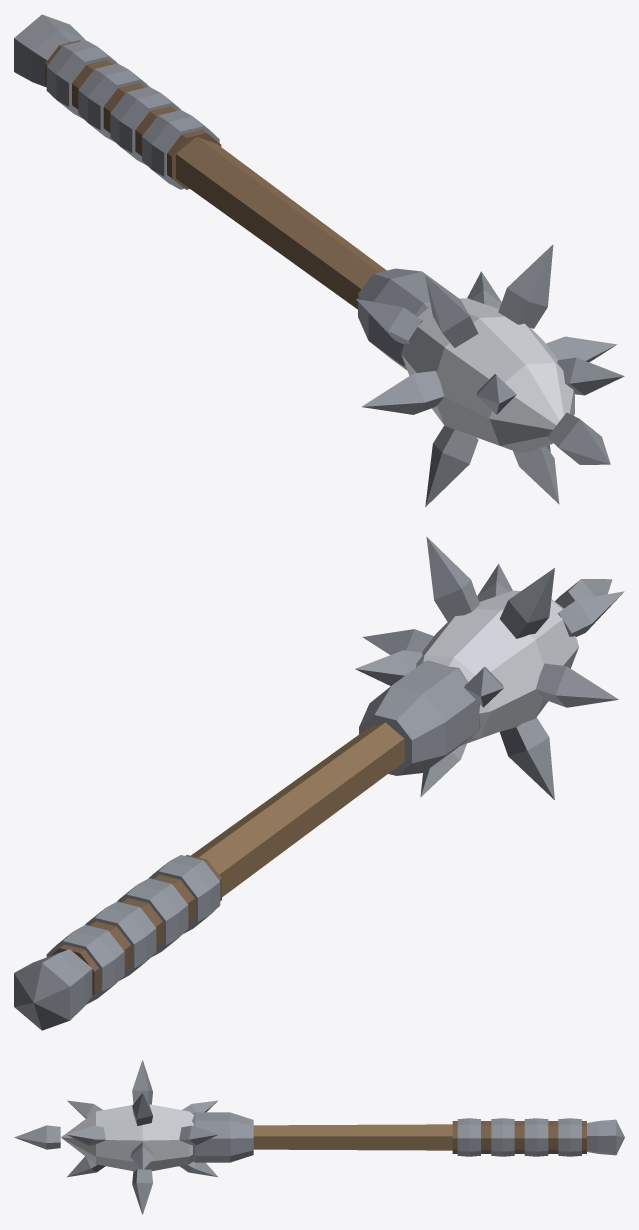
Rendered from morningstar.glb.
3 views of the same model, one above another, from view 1: azimuth 30°, elevation 25°; view 2: azimuth 150°, elevation 25°; view 3: azimuth 270°, elevation 25° (orthographic). The views are drawn at different scales.
Visible parts, largest first — view 1: morningstar; view 2: morningstar; view 3: morningstar.
Boxes of the visible parts, x1=… form: morningstar: x1=14, y1=14, x2=624, y2=506; morningstar: x1=14, y1=536, x2=624, y2=1030; morningstar: x1=14, y1=1060, x2=624, y2=1214.
Size of the model in its own units: 0.268 by 0.2321 by 1.04.
